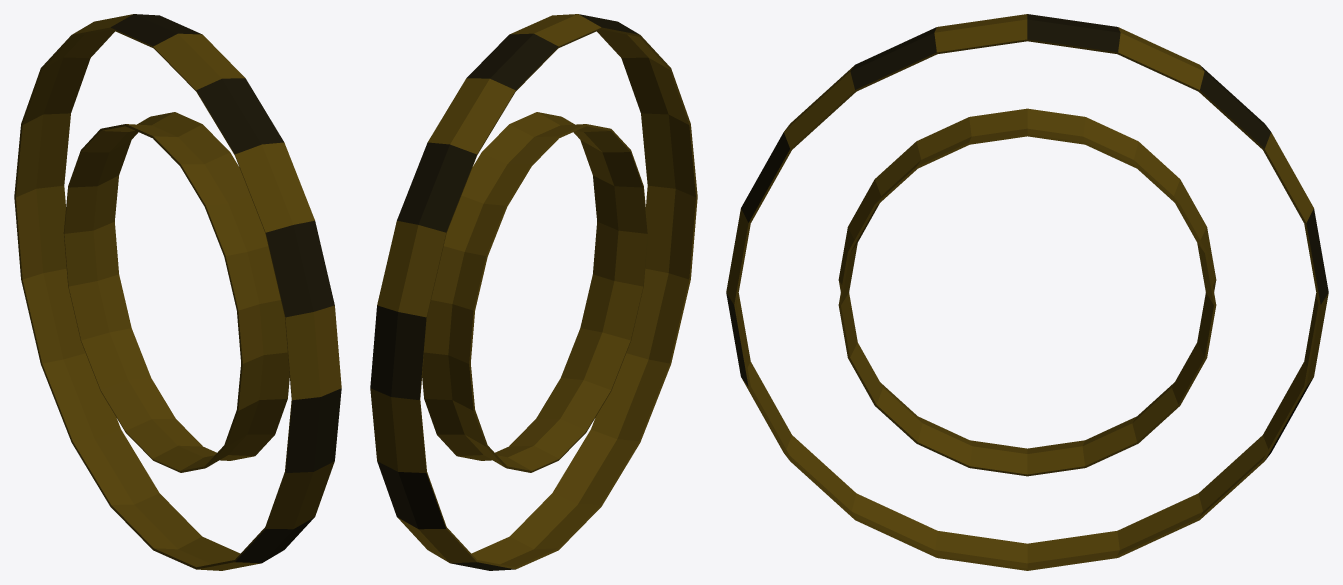
Rendered from AcceleradorM1.obj.
3 views of the same model, side by side, from view 1: azimuth 30°, elevation 25°; view 2: azimuth 150°, elevation 25°; view 3: azimuth 270°, elevation 25° (orthographic). The views are drawn at different scales.
Parts seen in each view (by area): view 1: Torus.027; view 2: Torus.027; view 3: Torus.027.
Part boxes in pixels (bbox=[...]): Torus.027: bbox=[14, 14, 341, 570]; Torus.027: bbox=[370, 14, 697, 570]; Torus.027: bbox=[726, 14, 1328, 570].
Bounding box in the file's own units: 0.1148 × 1.12 × 1.12.
